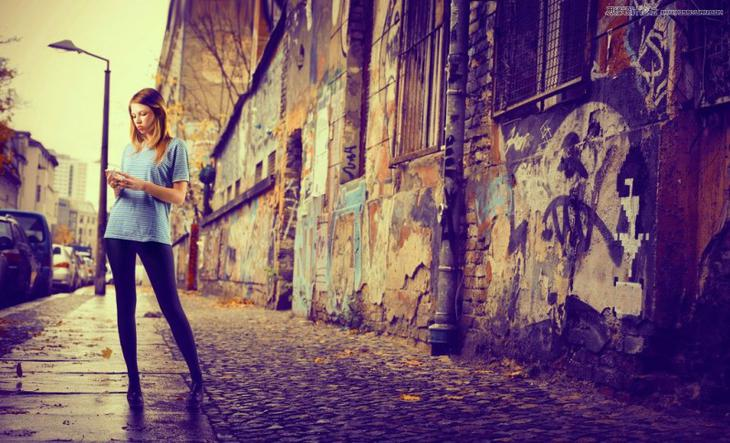people: (106, 90, 201, 402)
